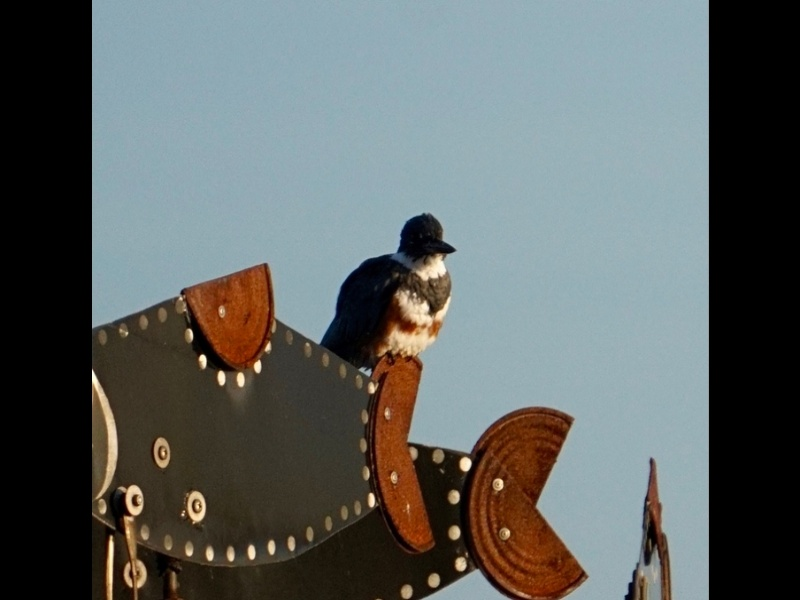kingfisher: (318, 208, 456, 373)
